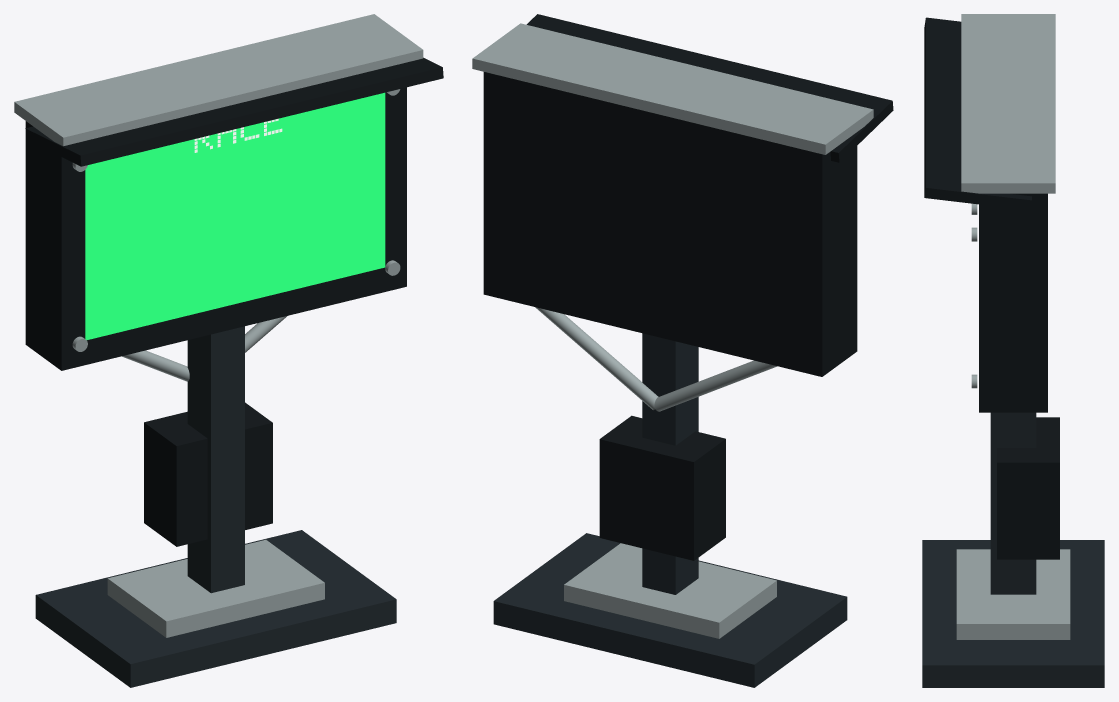
File: race-marshal-panel.glb
3 renders of one model, left to right at view 1: azimuth 30°, elevation 25°; view 2: azimuth 150°, elevation 25°; view 3: azimuth 270°, elevation 25°, orthographic. The views are drawn at different scales.
Visible parts, largest first — view 1: housing__Moulded_carbon_housing, flag-display-led__Marshal_display_—_addressable, frame__Brushed_aluminium, frame__Powder-coated_graphite_frame, FlagPanel_Display; view 2: housing__Moulded_carbon_housing, frame__Brushed_aluminium, frame__Powder-coated_graphite_frame; view 3: housing__Moulded_carbon_housing, frame__Brushed_aluminium, frame__Powder-coated_graphite_frame.
Part boxes in pixels (bbox=[...]): housing__Moulded_carbon_housing: bbox=[25, 57, 443, 546]; flag-display-led__Marshal_display_—_addressable: bbox=[88, 112, 384, 317]; frame__Brushed_aluminium: bbox=[14, 14, 423, 637]; frame__Powder-coated_graphite_frame: bbox=[35, 326, 396, 687]; FlagPanel_Display: bbox=[85, 92, 385, 339]; housing__Moulded_carbon_housing: bbox=[483, 14, 893, 560]; frame__Brushed_aluminium: bbox=[472, 23, 873, 638]; frame__Powder-coated_graphite_frame: bbox=[493, 333, 847, 687]; housing__Moulded_carbon_housing: bbox=[924, 17, 1059, 559]; frame__Brushed_aluminium: bbox=[956, 14, 1070, 639]; frame__Powder-coated_graphite_frame: bbox=[922, 412, 1104, 687].
Size of the model in its own units: 3.2 by 4.61 by 1.45.
